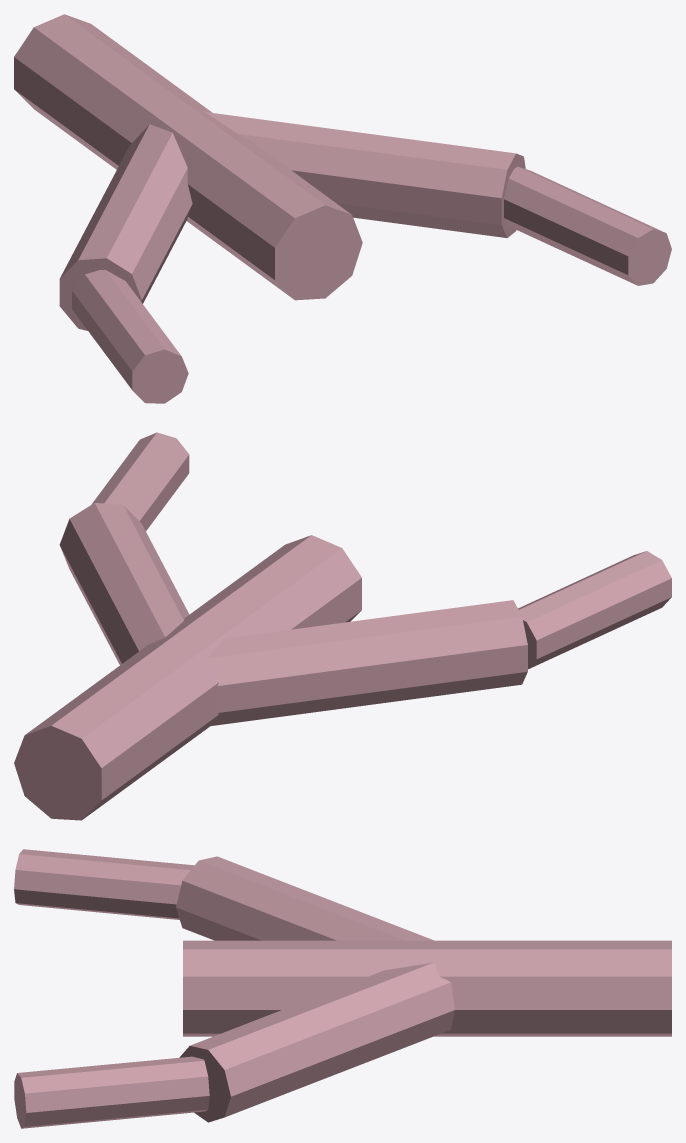
File: coral.glb
3 renders of one model, top to bottom at view 1: azimuth 30°, elevation 25°; view 2: azimuth 150°, elevation 25°; view 3: azimuth 270°, elevation 25°, orthographic. The views are drawn at different scales.
Parts seen in each view (by area): view 1: world; view 2: world; view 3: world.
Boxes of the visible parts, x1=… form: world: x1=14, y1=14, x2=671, y2=403; world: x1=14, y1=432, x2=671, y2=820; world: x1=14, y1=849, x2=671, y2=1128.
Size of the model in its own units: 1.43 by 0.2364 by 1.62.
